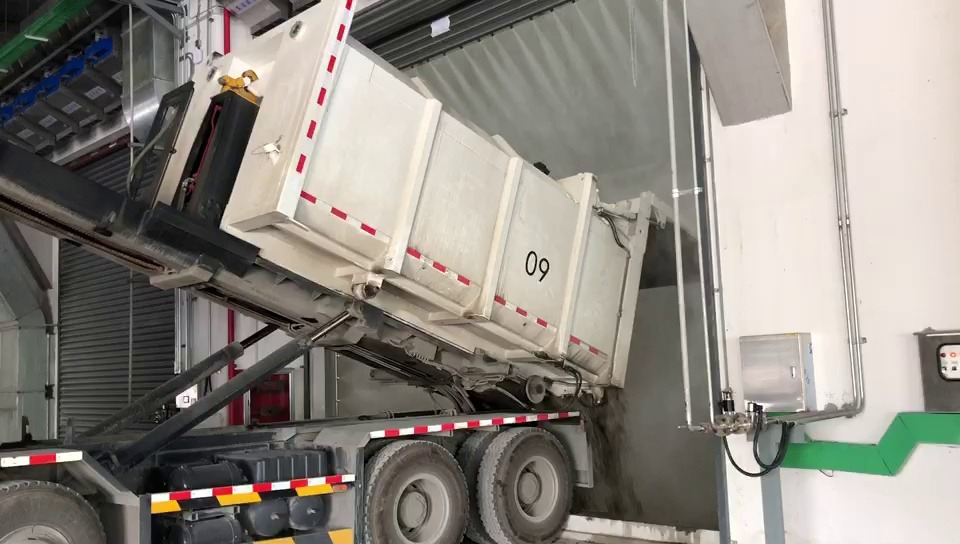truck: (0, 11, 638, 537)
